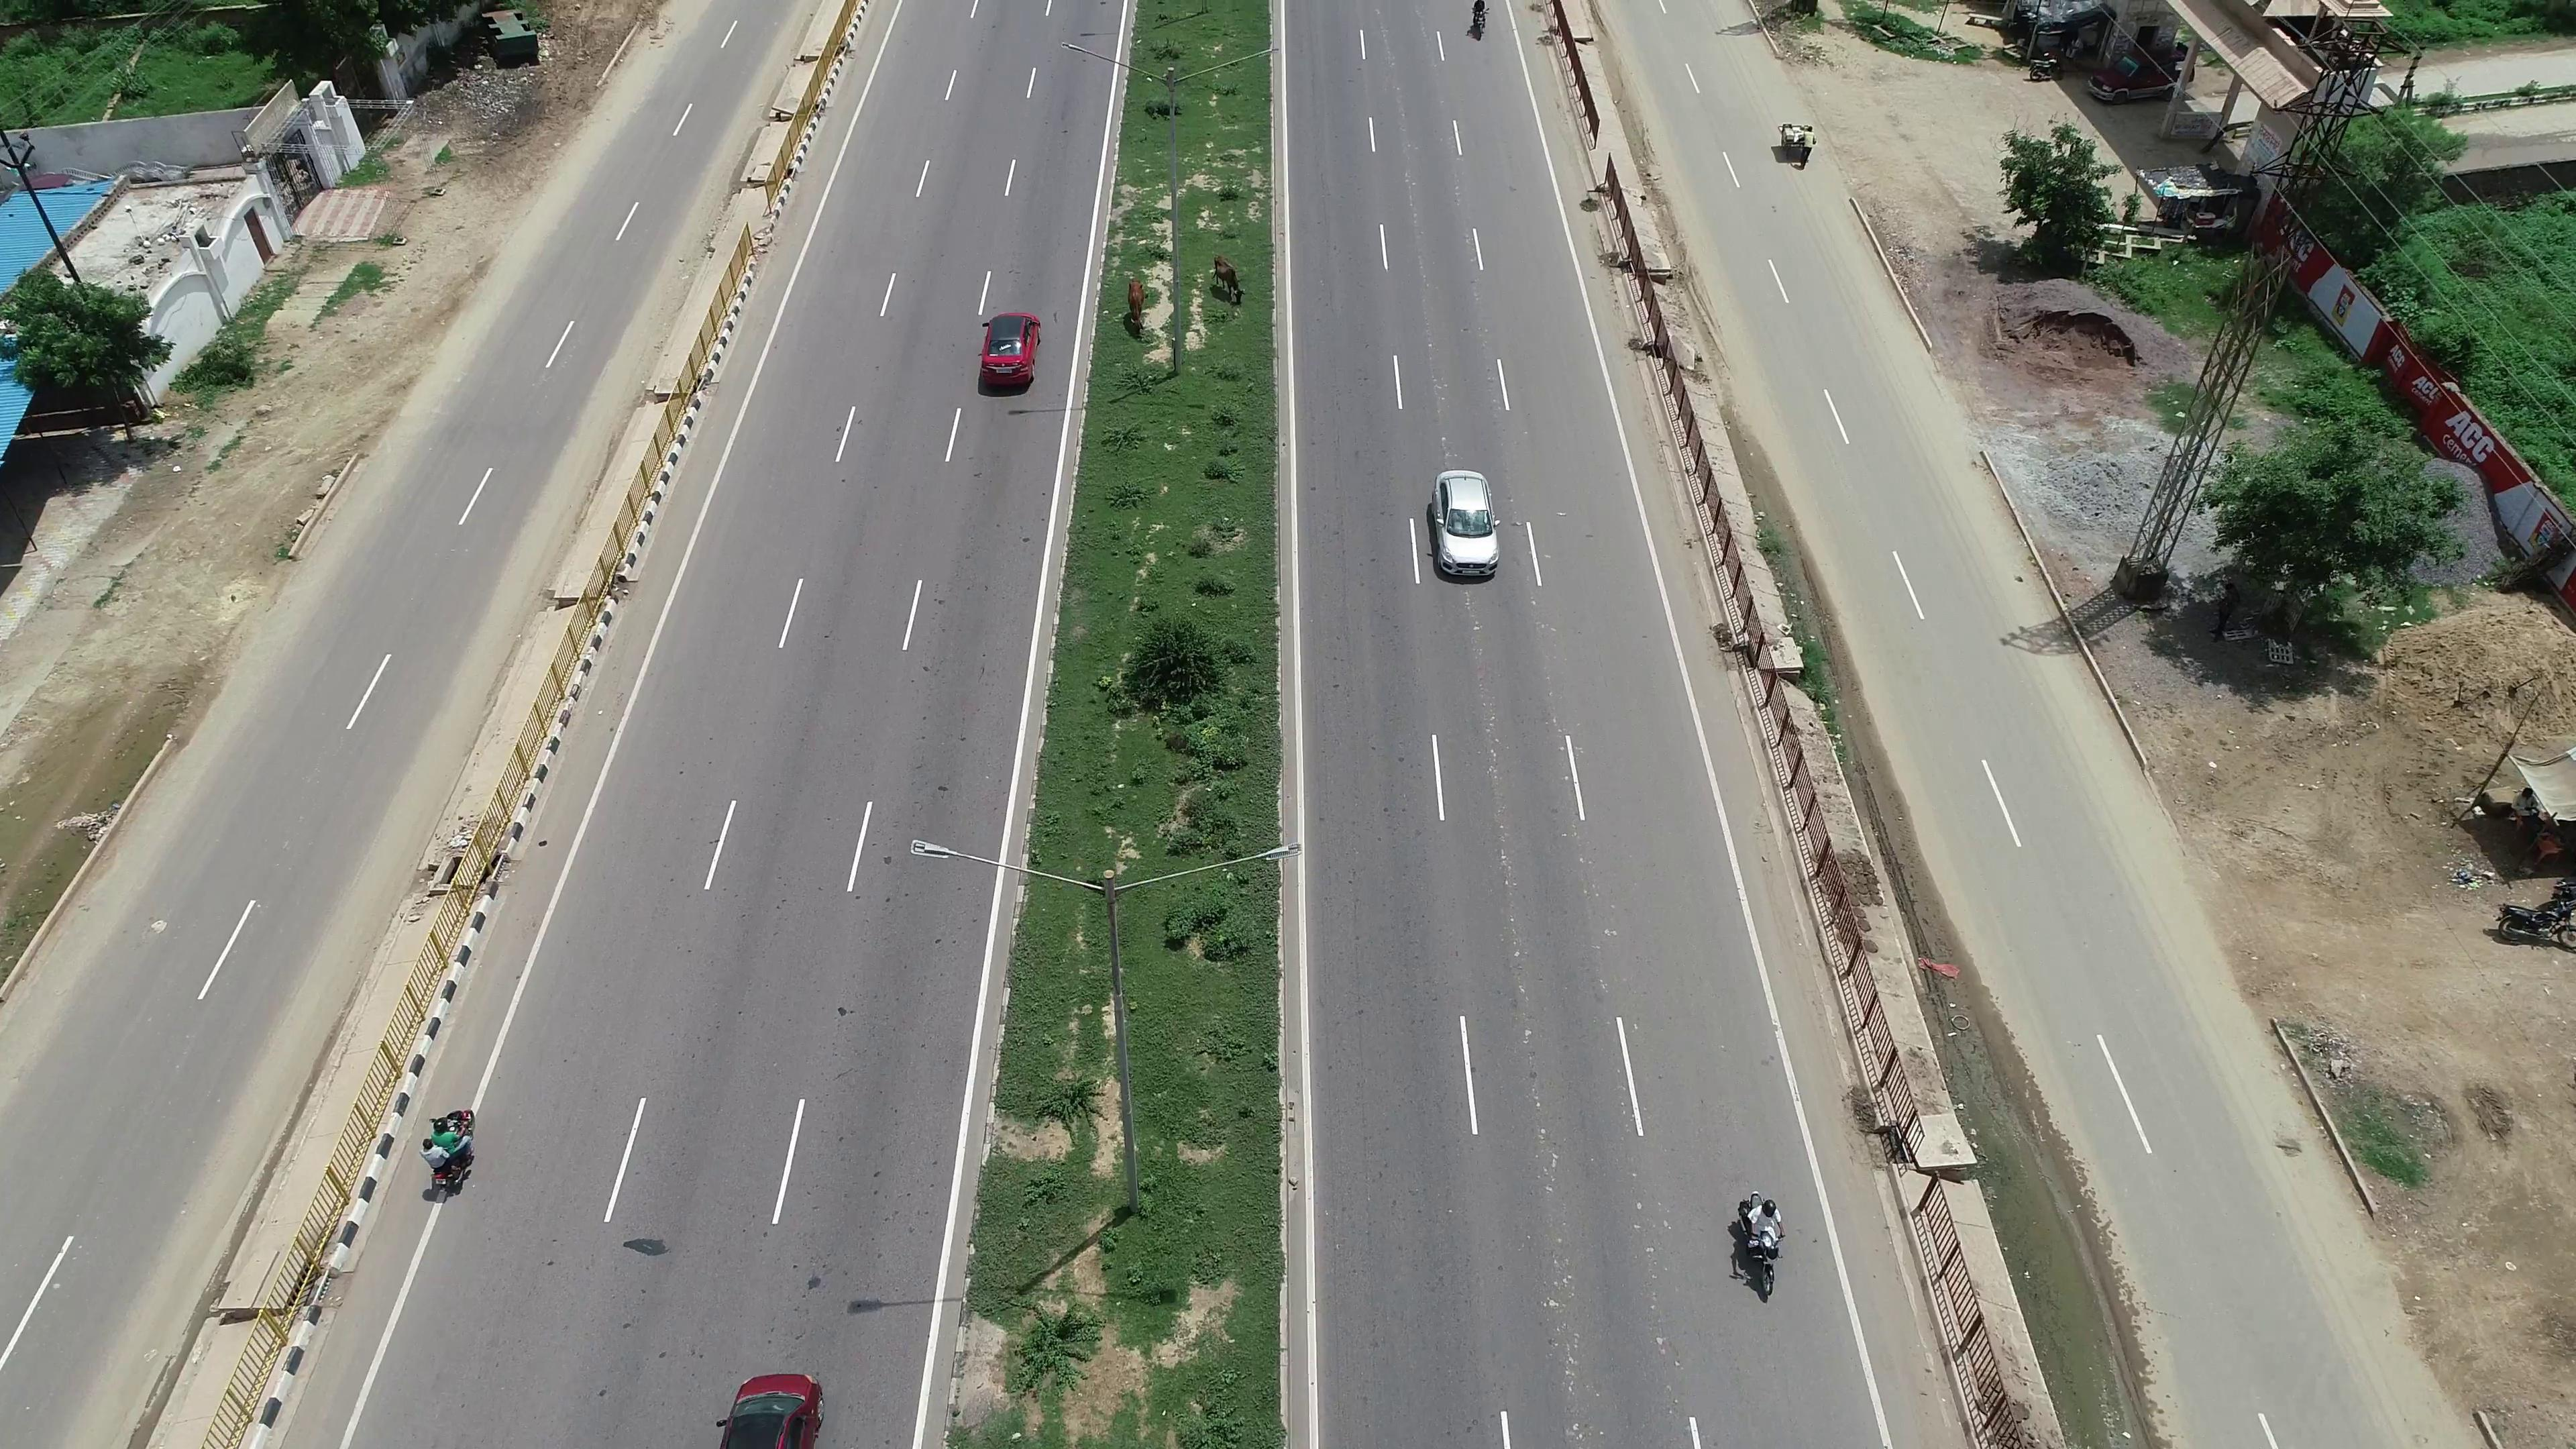Ravelling: (1509, 1003, 1576, 1343), (1479, 708, 1530, 993)
Waterlogging: (1964, 1102, 2123, 1415)
